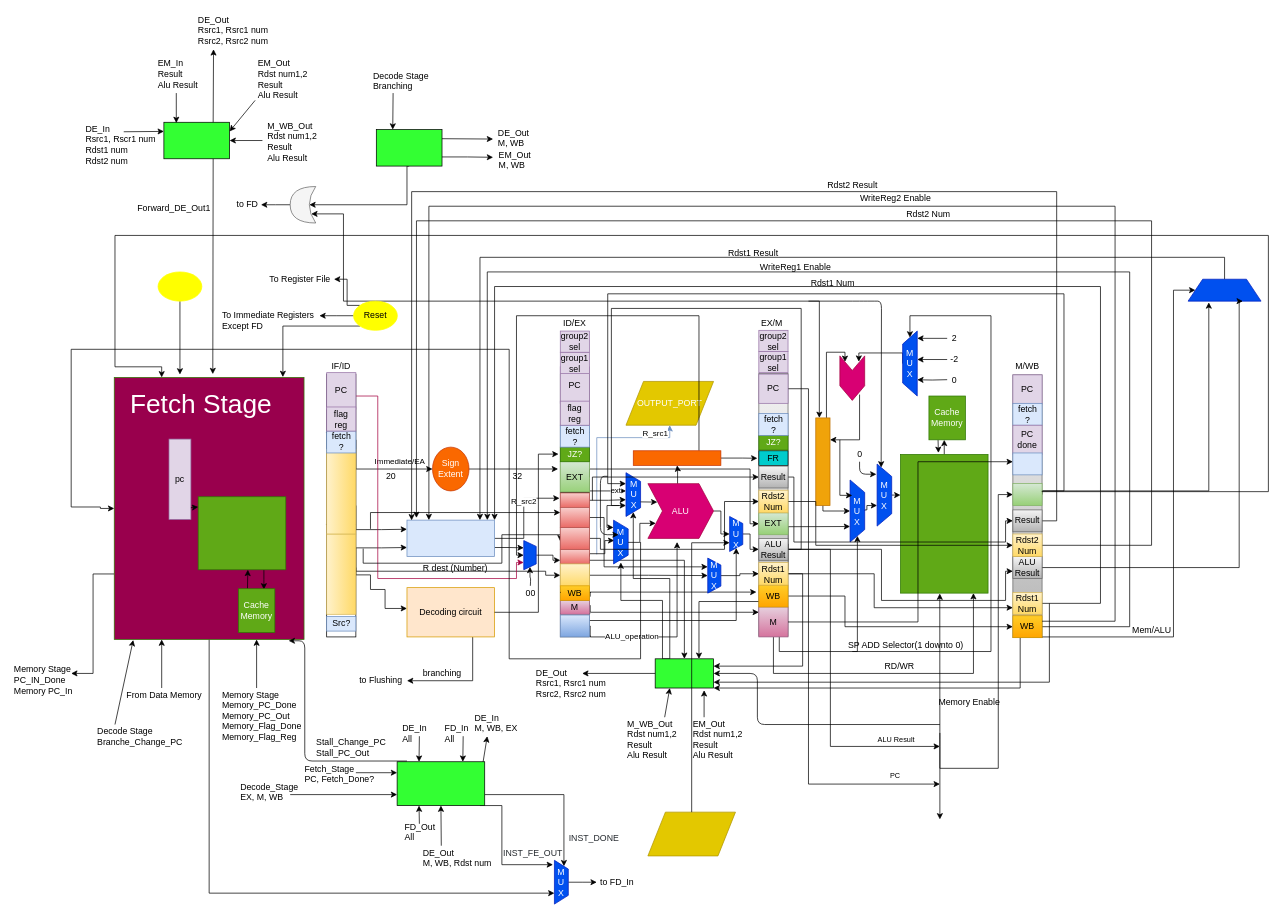
Image size: 1287x917. Some labels were removed from this diagram. The shapes that lost their labels are listed below. From the top down, each one's centre as x and y in pixels, then its label:
pixel 196 140: Branch Forwarding Unit
pixel 409 147: Flushing
pixel 179 286: INTR
pixel 1224 289: MUX
pixel 852 377: ADD
pixel 677 457: Flag Register
pixel 822 461: SP
pixel 1027 463: RD MEM
pixel 341 491: Instruction falling
pixel 574 500: Rsrc2
pixel 1027 494: Mem Result
pixel 241 533: Instruction memory
pixel 574 517: Rsrc2 Num
pixel 944 523: Data Memory
pixel 450 538: Register File
pixel 574 538: Rsrc1 Num
pixel 574 556: Rsrc1
pixel 341 573: Instruction rising
pixel 574 575: Rdst Num
pixel 574 625: EX
pixel 684 673: Forwarding Unit
pixel 440 783: Hazard Detection Unit
pixel 691 833: INPUT_PORT
